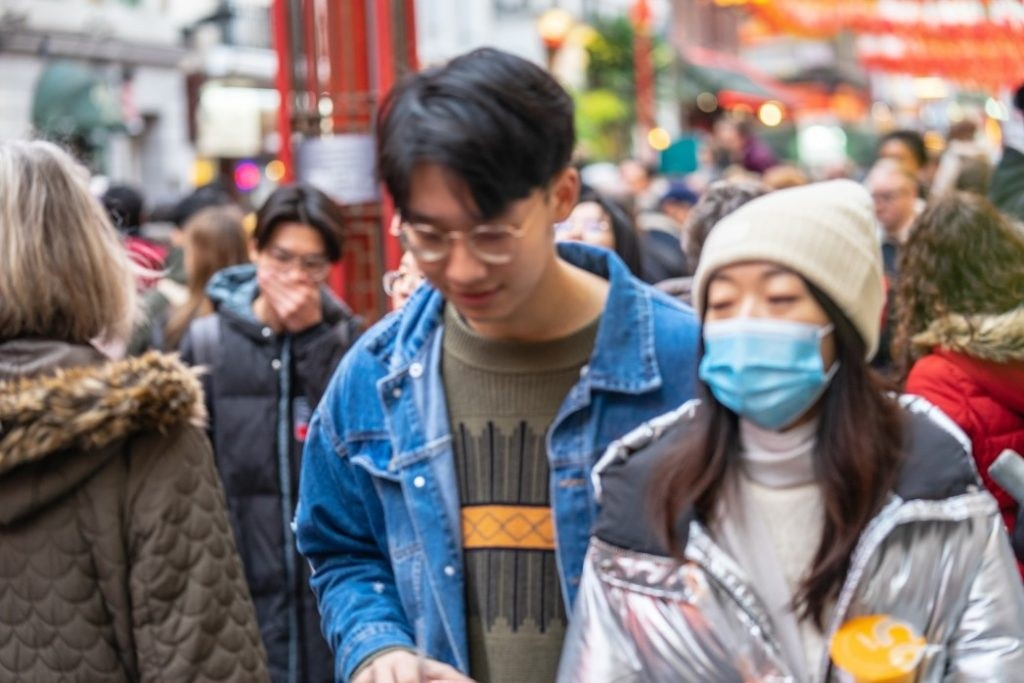face_no_mask: (383, 108, 578, 315), (255, 180, 346, 303)
face_with_mask: (690, 228, 863, 428)
